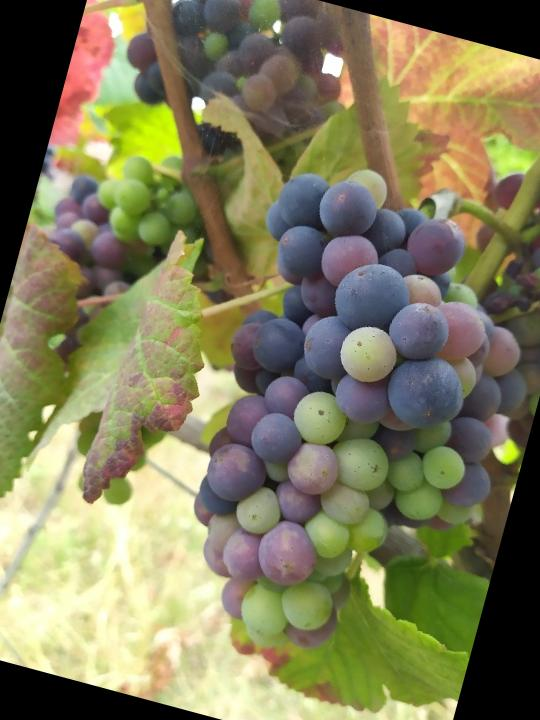grape: (154, 145, 540, 695)
